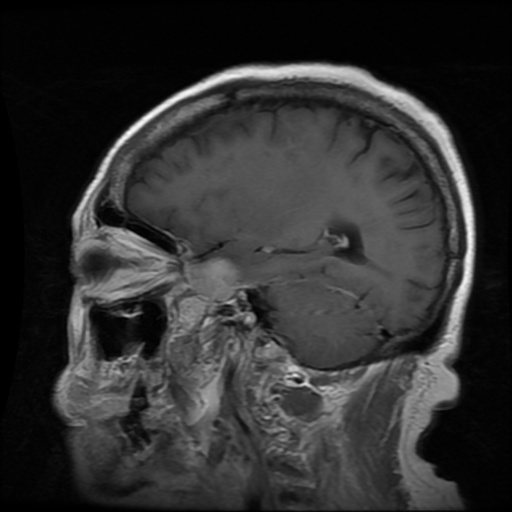meningioma: (186, 257, 241, 303)
